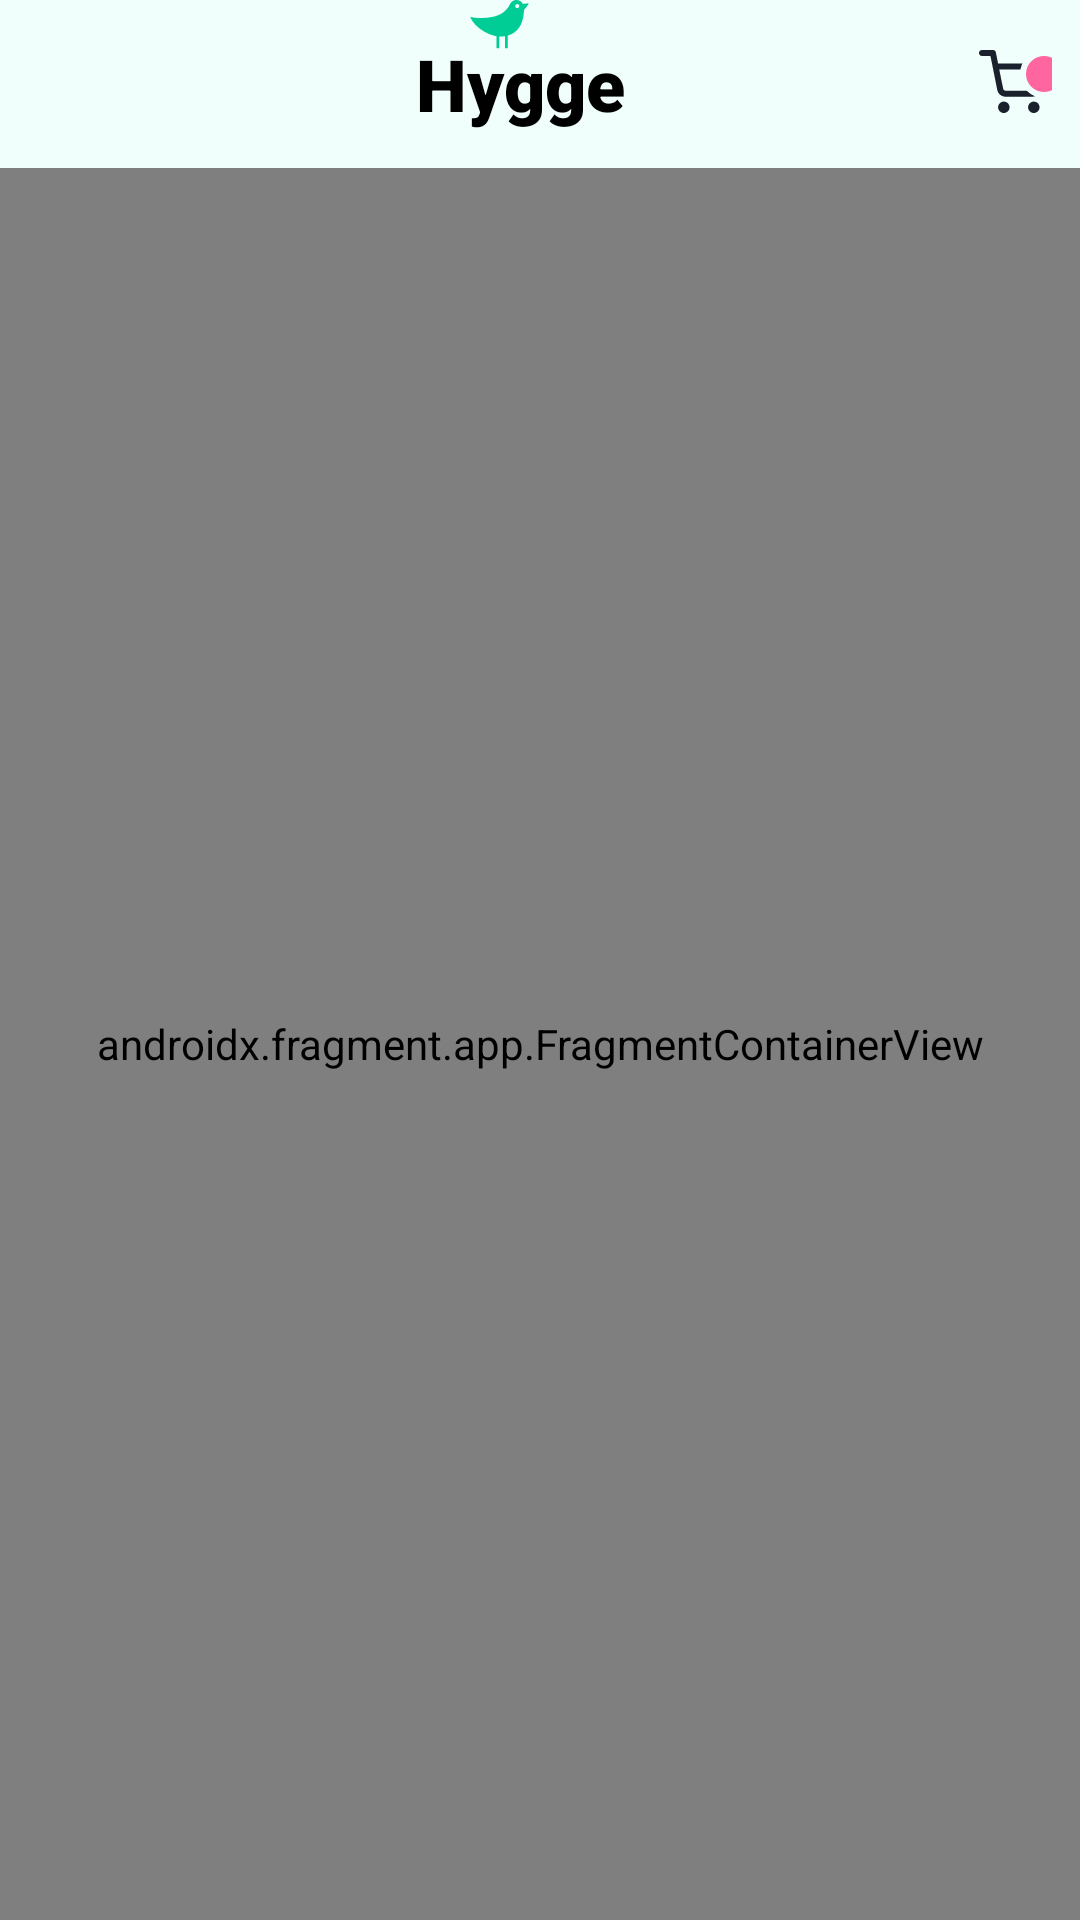

Icon click points for this 1080px×1920px phone screenshot, format (x=x, y=y):
bird: (x=499, y=24)
